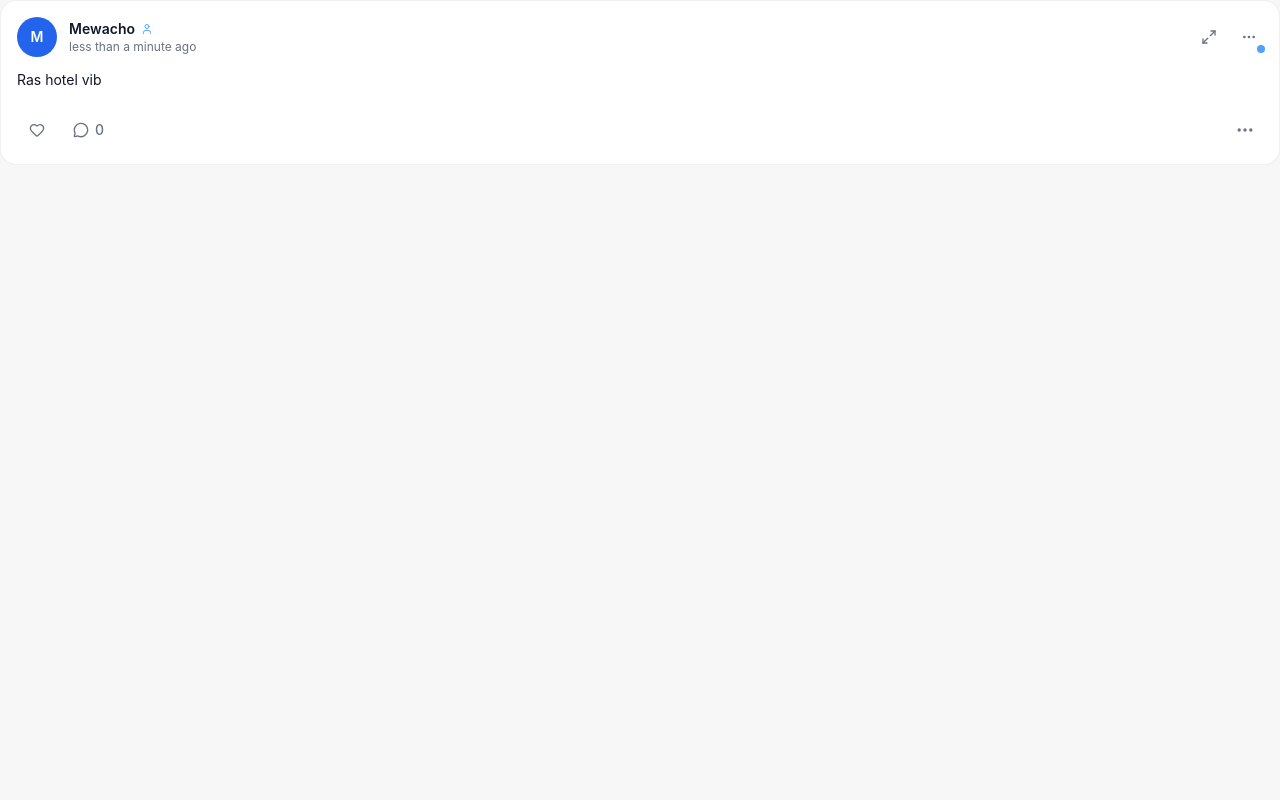
PostCard owner actions › offers Edit and Delete to the author, using the signed-in user when no id prop is passed
Click the button named "More options for this post" at (1245, 130), box 1227,108 -> 1263,152
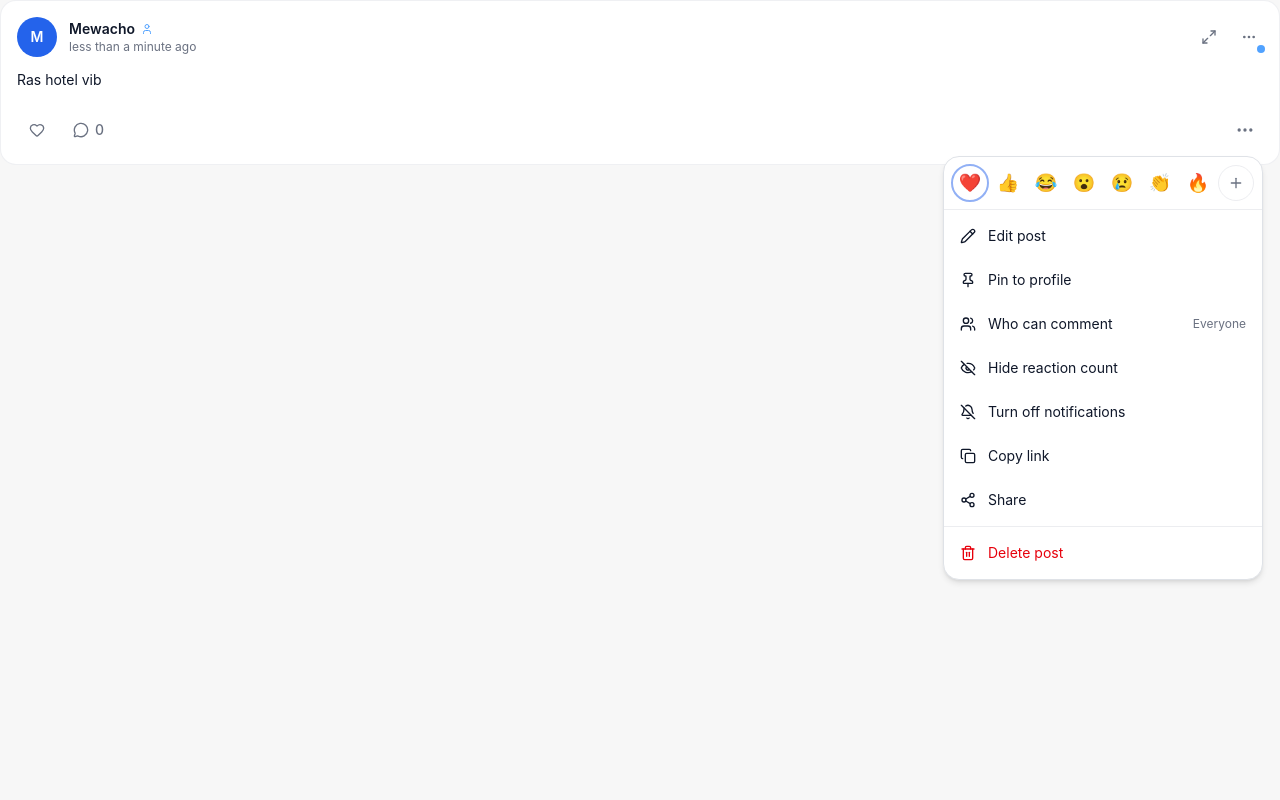
Result: the menu item "Edit post" is shown at 944,214 -> 1262,258
Result: the menu item "Delete post" is shown at 944,531 -> 1262,575
